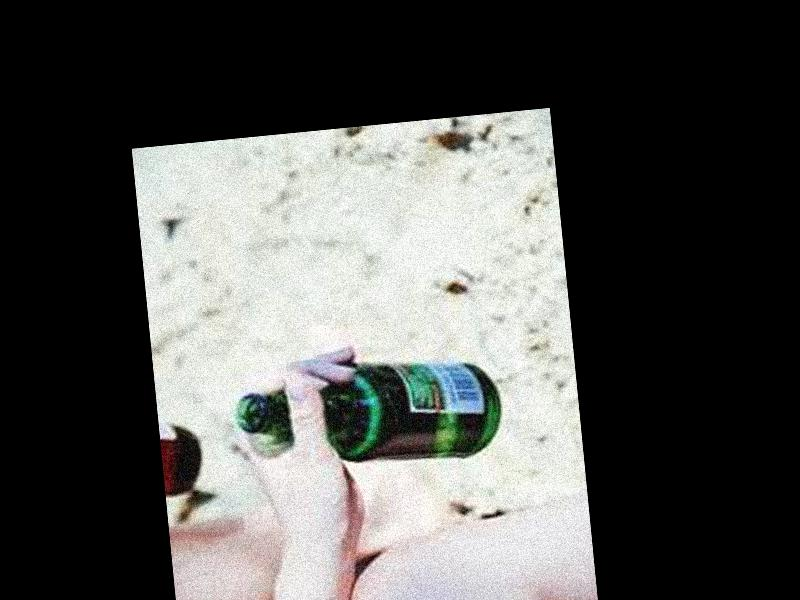Beer: (230, 352, 505, 480)
